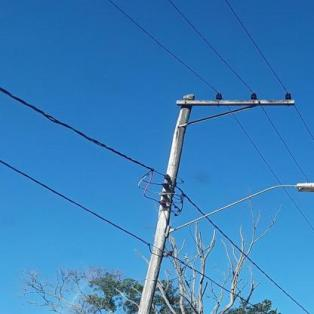Poste: (80, 90, 210, 314)
